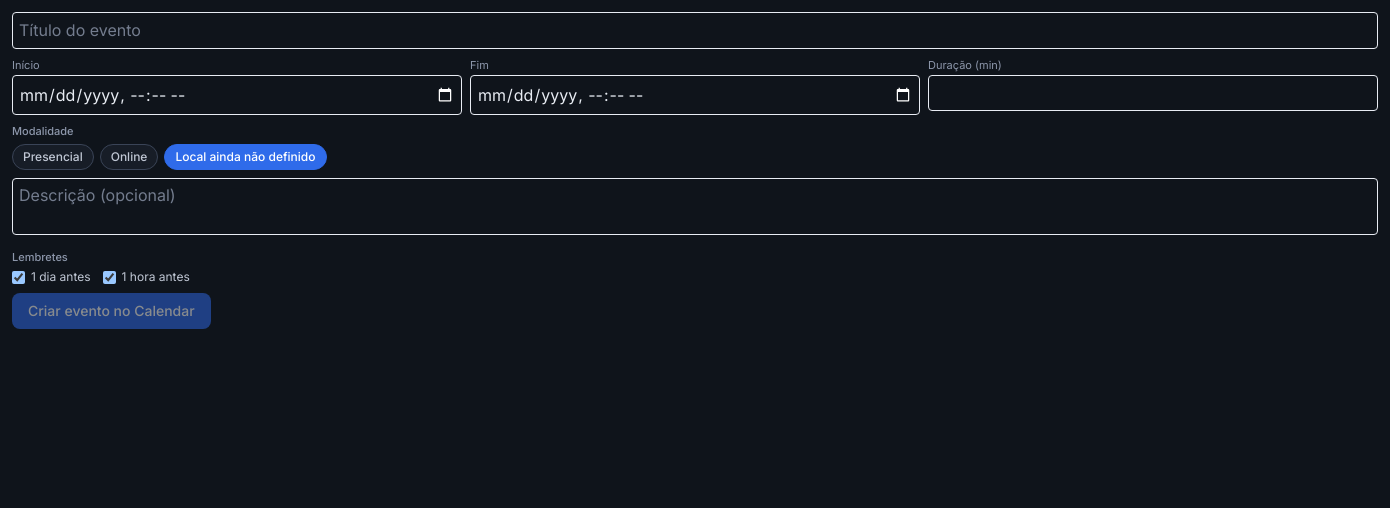
Test: CalendarEventCreator — criação manual (sem aiRunId) › exige um título antes de permitir a criação (criação manual não tem título vindo de proposta)
The width and height of the screenshot is (1390, 508).
Type "2026-08-05T10:00" into the field labelled "Início" at (237, 95), box [12,75,462,115]
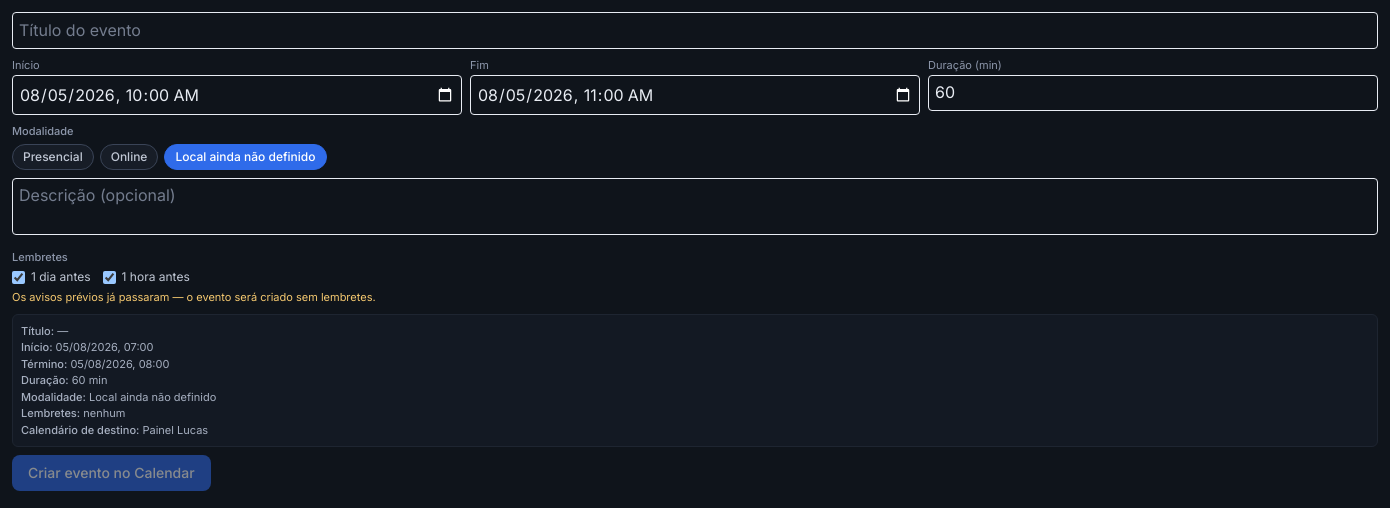
Check: the button "Criar evento no Calendar" is disabled, box [12,455,211,491]
Type "Buscar exame" into the field labelled "Título do evento" at (695, 30), box [12,12,1378,49]
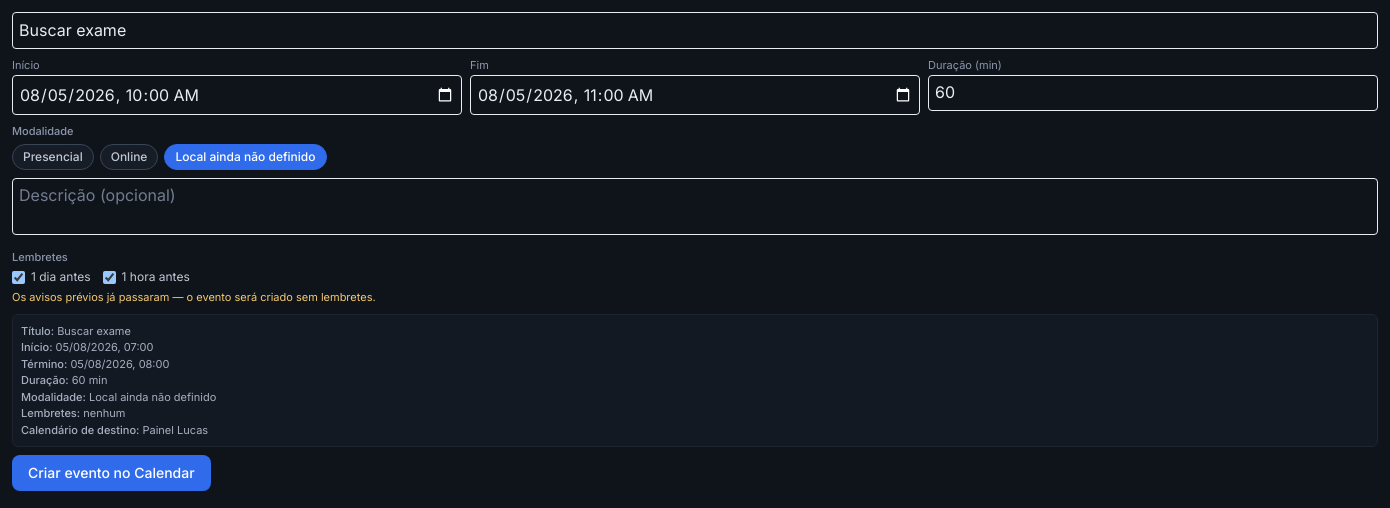
Check: the button "Criar evento no Calendar" is enabled, box [12,455,211,491]
